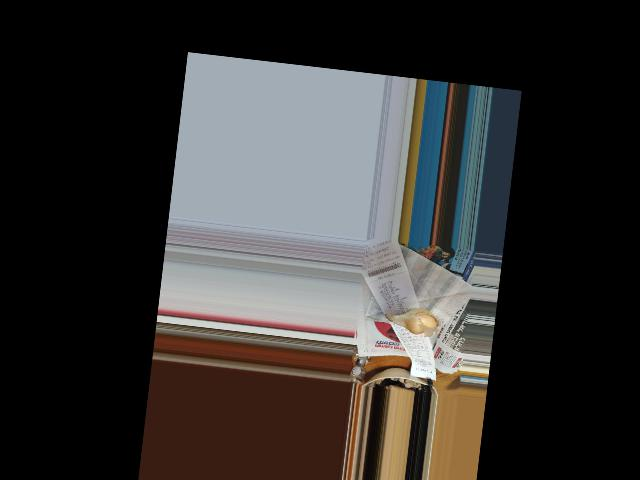onion: (398, 307, 439, 334)
